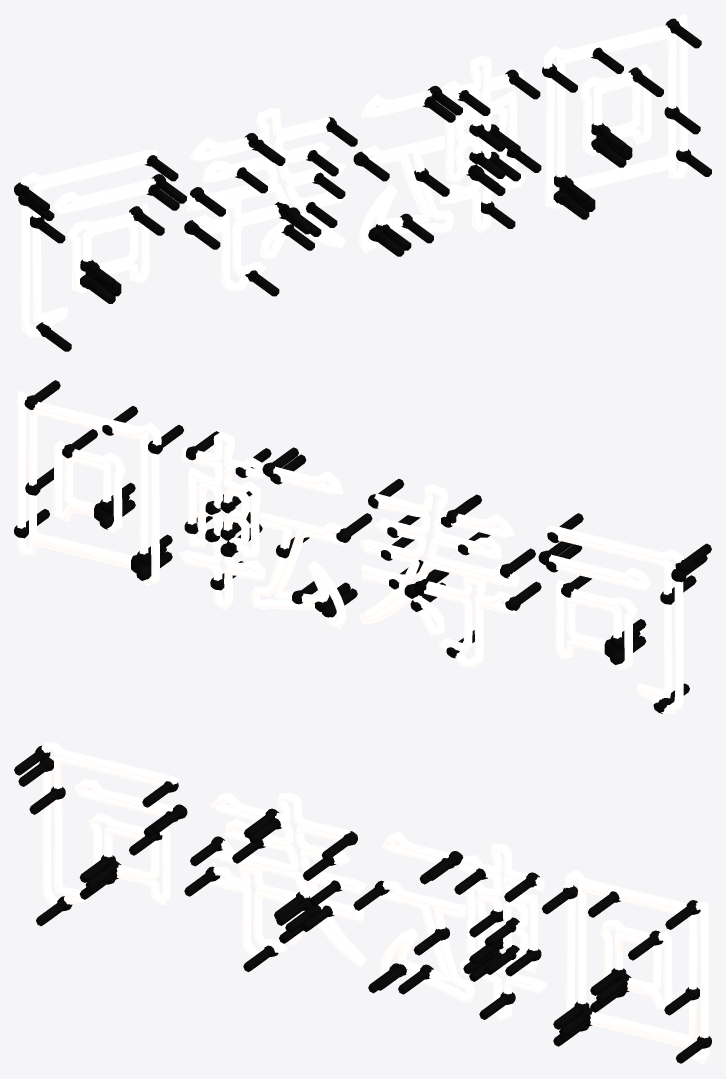
The model's file is neon_kaitenzusi.fbx.
3 views of the same model, one above another, from view 1: azimuth 30°, elevation 25°; view 2: azimuth 150°, elevation 25°; view 3: azimuth 330°, elevation 25° (orthographic).
Parts seen in each view (by area): view 1: NeonEnglish; view 2: NeonEnglish; view 3: NeonEnglish.
Part boxes in pixels (x1,y1,x2,y2): NeonEnglish: (14,14,711,351); NeonEnglish: (14,380,711,713); NeonEnglish: (14,742,711,1064).
Bounding box in the file's own units: 299 × 74.82 × 21.29.
